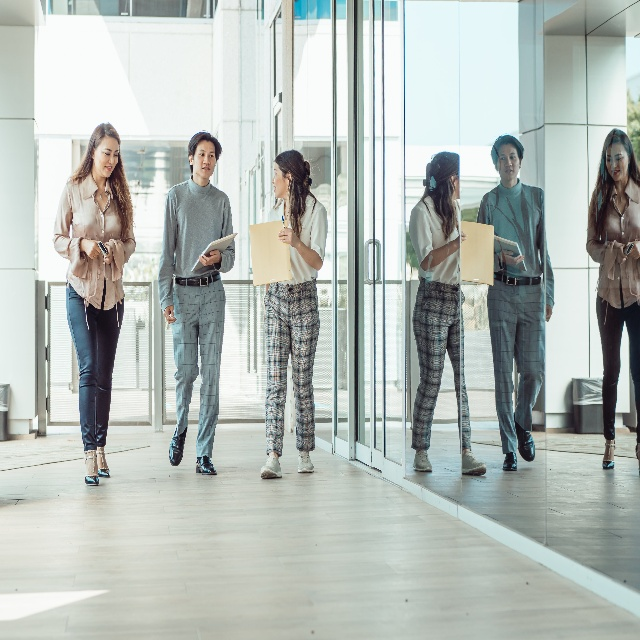Sin_guantes: (497, 245, 526, 271), (277, 228, 298, 249), (198, 249, 220, 267), (83, 238, 101, 259), (617, 242, 630, 267), (628, 238, 640, 263), (164, 305, 177, 325), (102, 242, 113, 264), (543, 303, 554, 324)
